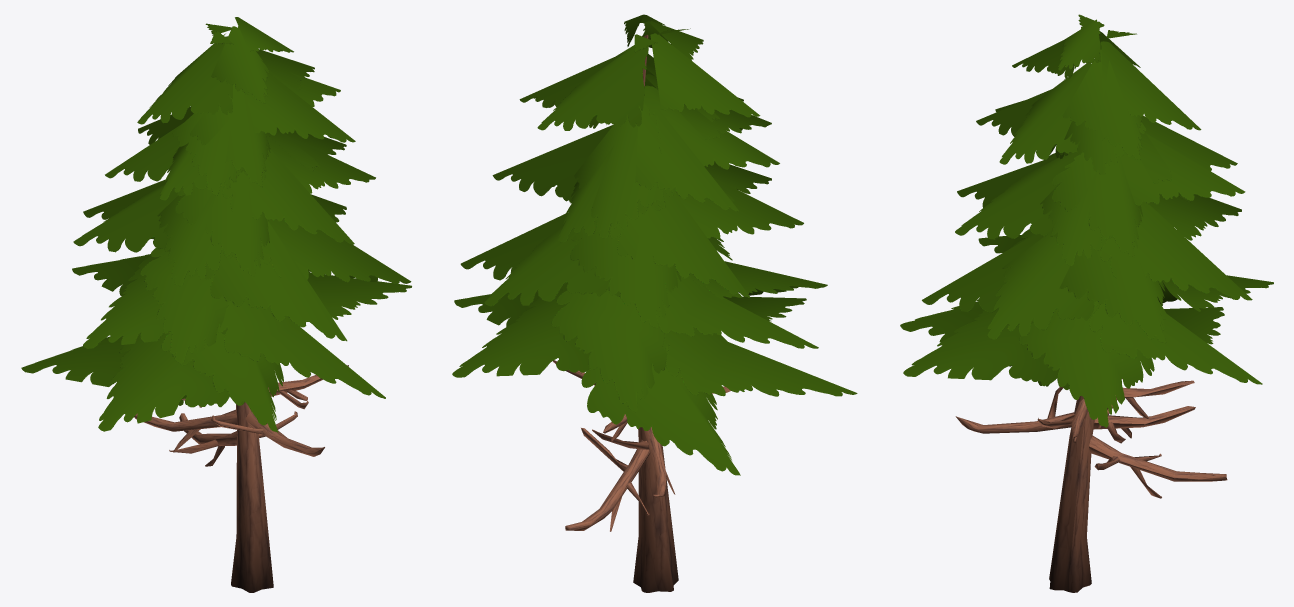
The model's file is Pine_1_far.gltf.
3 views of the same model, side by side, from view 1: azimuth 30°, elevation 25°; view 2: azimuth 150°, elevation 25°; view 3: azimuth 270°, elevation 25° (orthographic). The views are drawn at different scales.
Parts seen in each view (by area): view 1: Pine_1; view 2: Pine_1; view 3: Pine_1.
Boxes of the visible parts, x1,y1,x2,y2 form: Pine_1: [21, 17, 411, 592]; Pine_1: [452, 14, 857, 592]; Pine_1: [900, 14, 1273, 592].
Size of the model in its own units: 4.94 by 7.32 by 4.54.
Materials: 2 (2 with a texture image).
